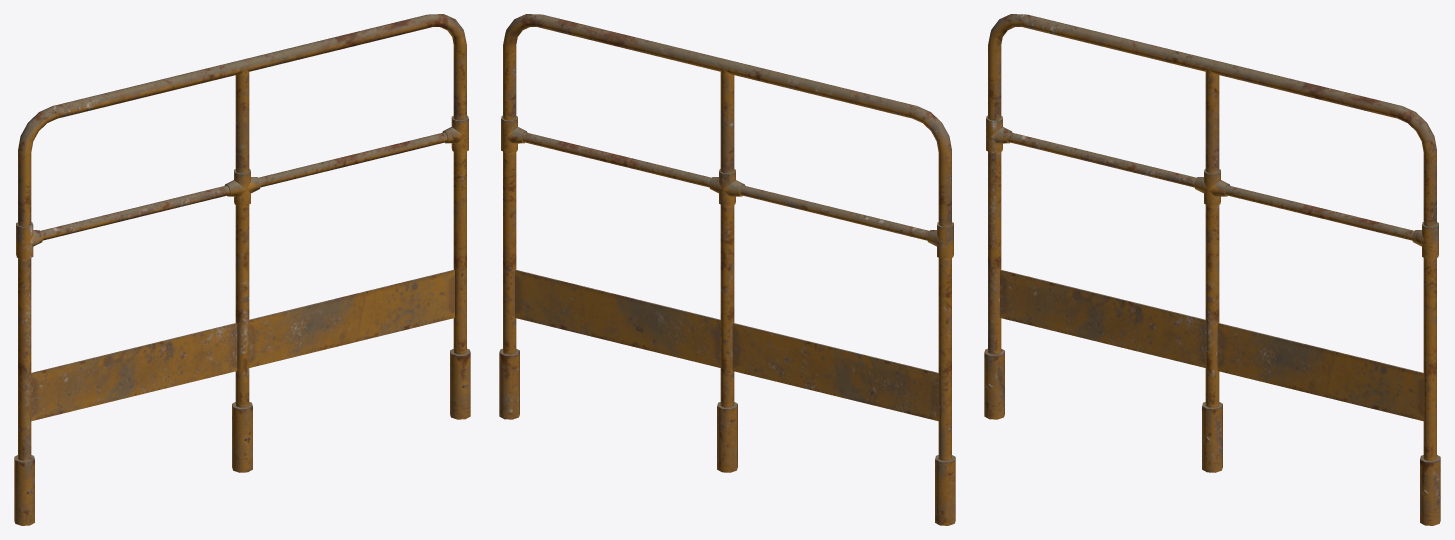
File: Railing01b.fbx
The picture shows the model from 3 angles, left to right: view 1: azimuth 30°, elevation 25°; view 2: azimuth 150°, elevation 25°; view 3: azimuth 330°, elevation 25°; orthographic projection.
Parts seen in each view (by area): view 1: Railing01b_LOD0; view 2: Railing01b_LOD0; view 3: Railing01b_LOD0.
Boxes of the visible parts, <box> form: Railing01b_LOD0: <box>14,14,470,525</box>; Railing01b_LOD0: <box>499,14,955,525</box>; Railing01b_LOD0: <box>984,14,1440,525</box>.
Size of what is drawn, in the model's own units: 150 by 129 by 6.66.
